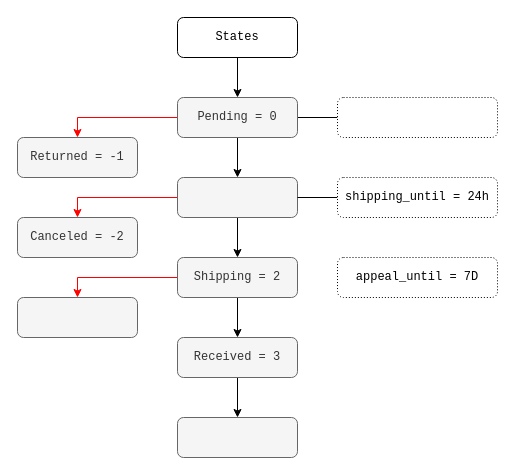
The diagram is 515 pixels wide and 475 high, and some of its shapes have lost their labels. The shapes that lost their labels are listed below. From the top down, each one's box as (x1, y1, x2, y2) in pixels, then its label:
(336, 96, 498, 138): pending_until = 1h
(176, 176, 298, 218): Locking = 1
(16, 296, 138, 338): Appealed = -3
(176, 416, 298, 458): Collected = 4
